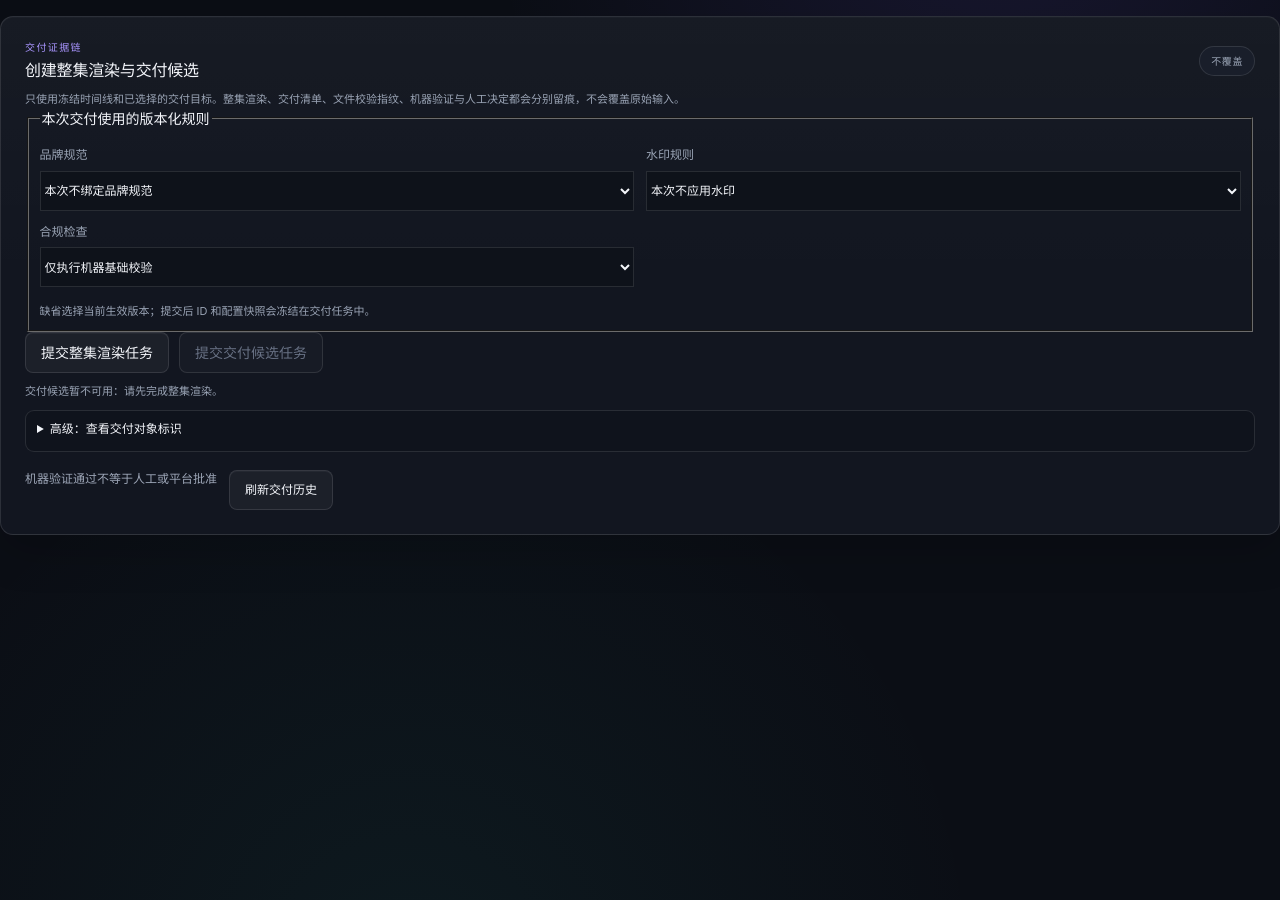
Test case: DeliveryWorkflowPanel › reuses an existing render without creating a duplicate background job
The image size is (1280, 900).
Click the button "提交整集渲染任务": (97, 353) [25,332,169,374]
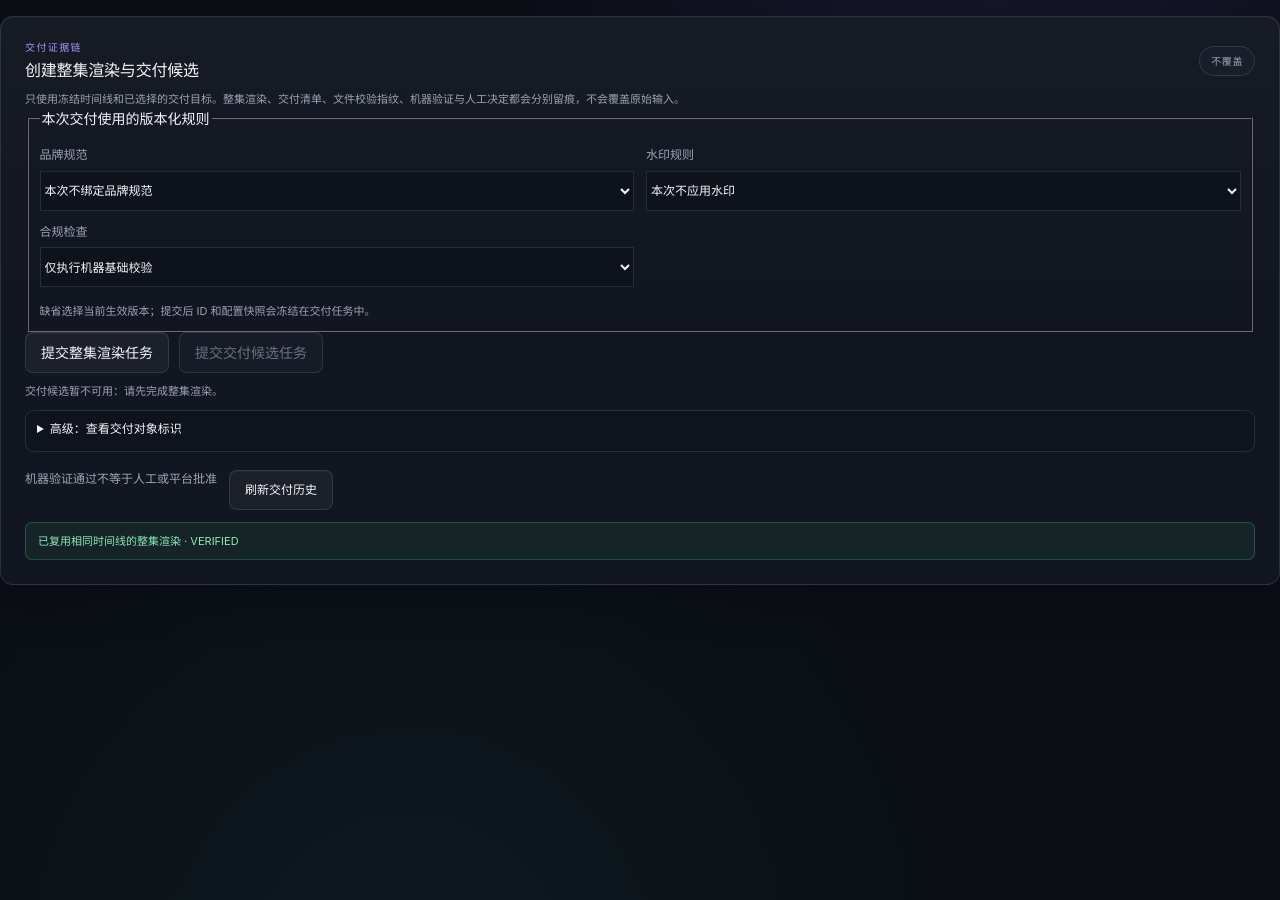
Result: the message shows "VERIFIED" at [38,534,239,548]
